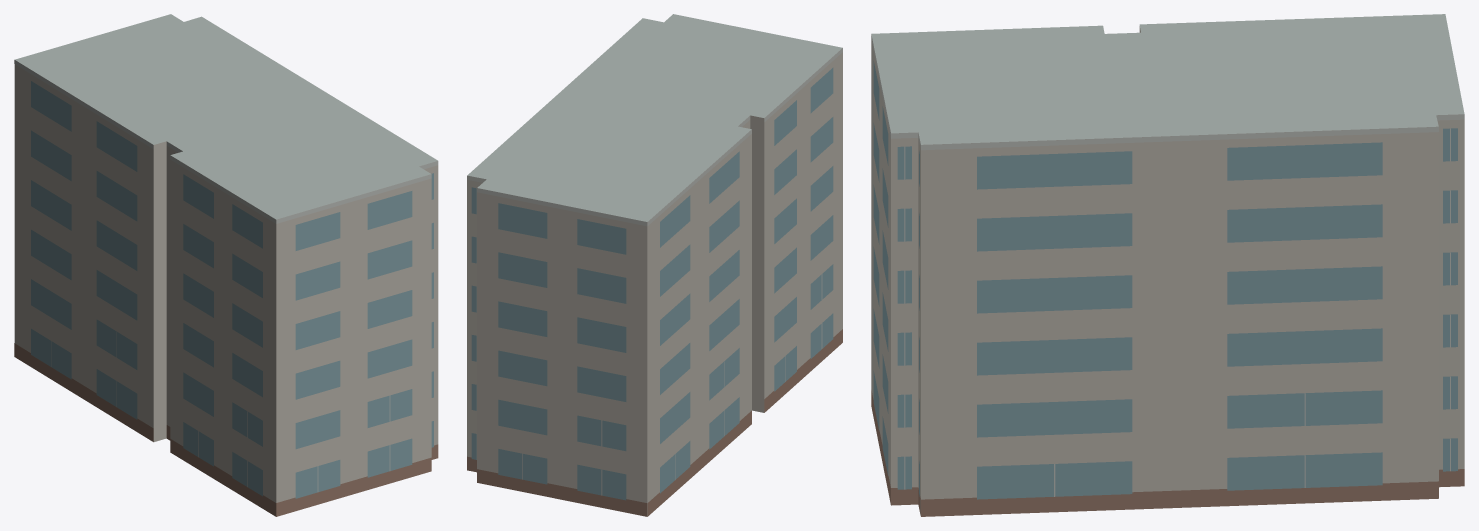
The model's file is survey-upis-32723992.glb.
The picture shows the model from 3 angles, left to right: view 1: azimuth 30°, elevation 25°; view 2: azimuth 150°, elevation 25°; view 3: azimuth 270°, elevation 25°; orthographic projection. The views are drawn at different scales.
Visible parts, largest first — view 1: survey-upis-32723992.tmp; view 2: survey-upis-32723992.tmp; view 3: survey-upis-32723992.tmp.
Boxes of the visible parts, bbox=[...] form: survey-upis-32723992.tmp: bbox=[14, 14, 438, 516]; survey-upis-32723992.tmp: bbox=[467, 14, 842, 516]; survey-upis-32723992.tmp: bbox=[871, 14, 1464, 516].
Bounding box in the file's own units: 12.61 × 16.7 × 24.15.
